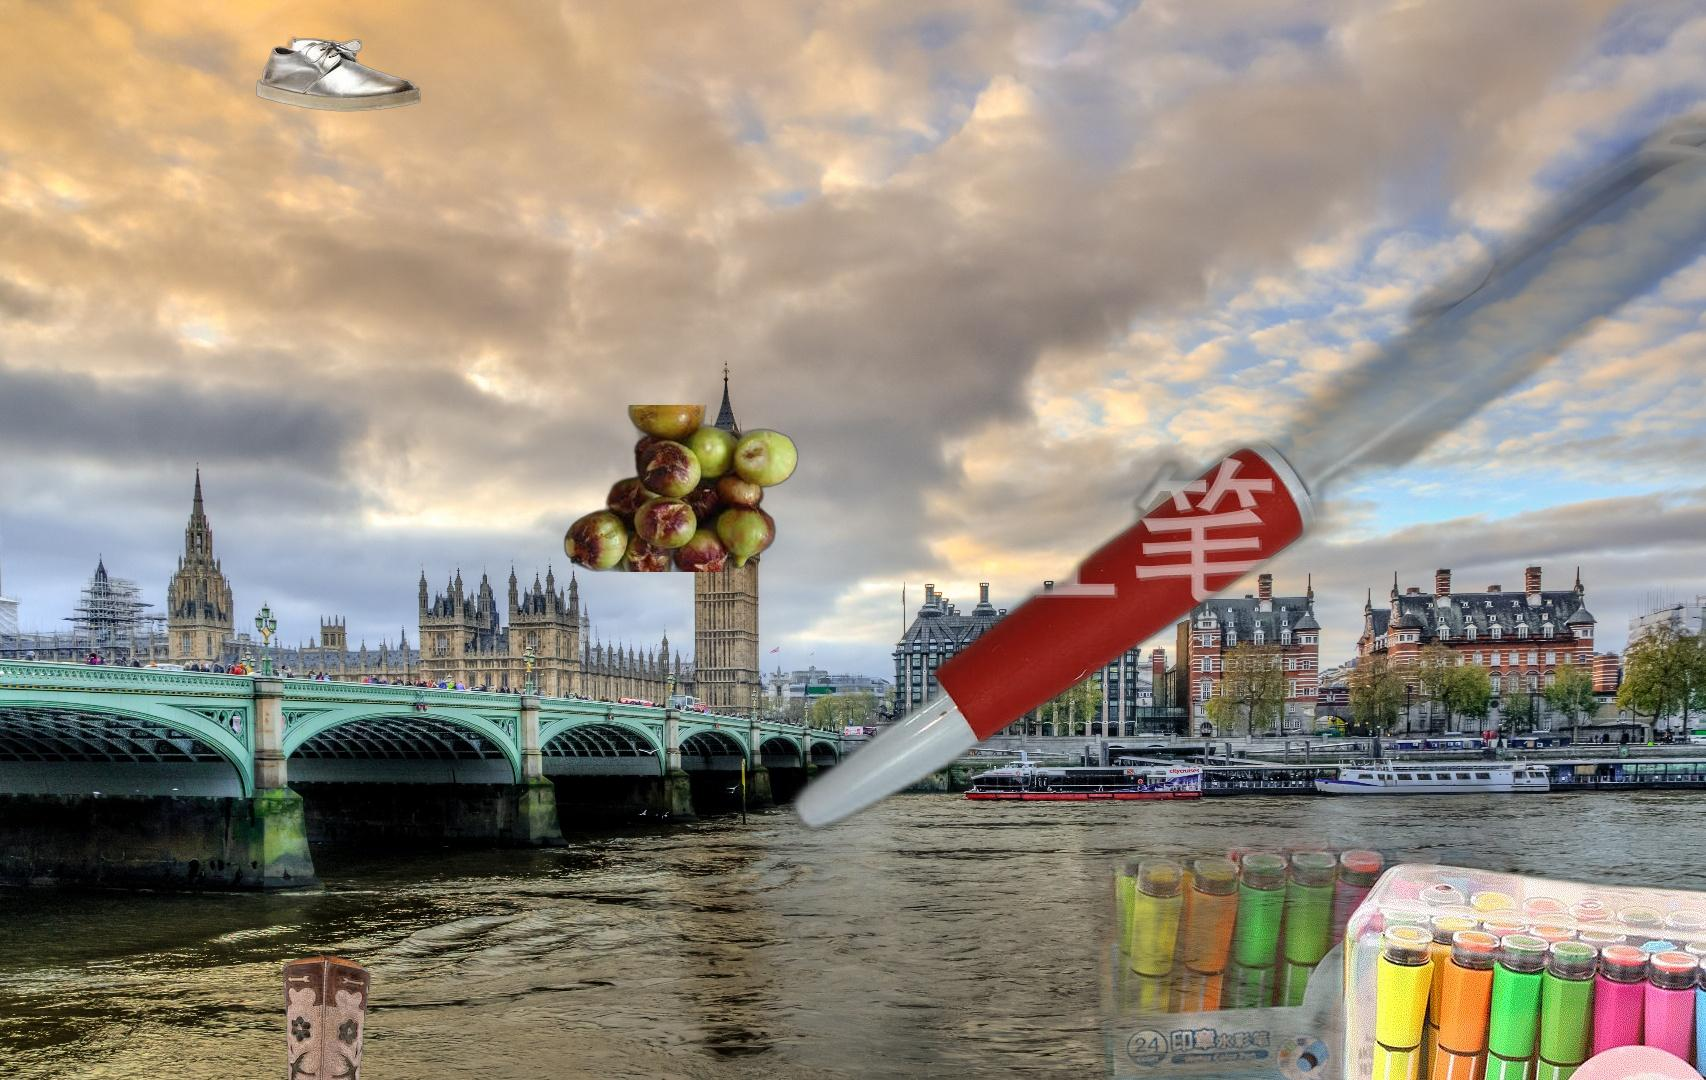biological: (562, 405, 800, 572)
penholder: (776, 67, 1706, 841), (1058, 672, 1706, 1080)
shoes: (277, 954, 460, 1080), (254, 32, 423, 114)
